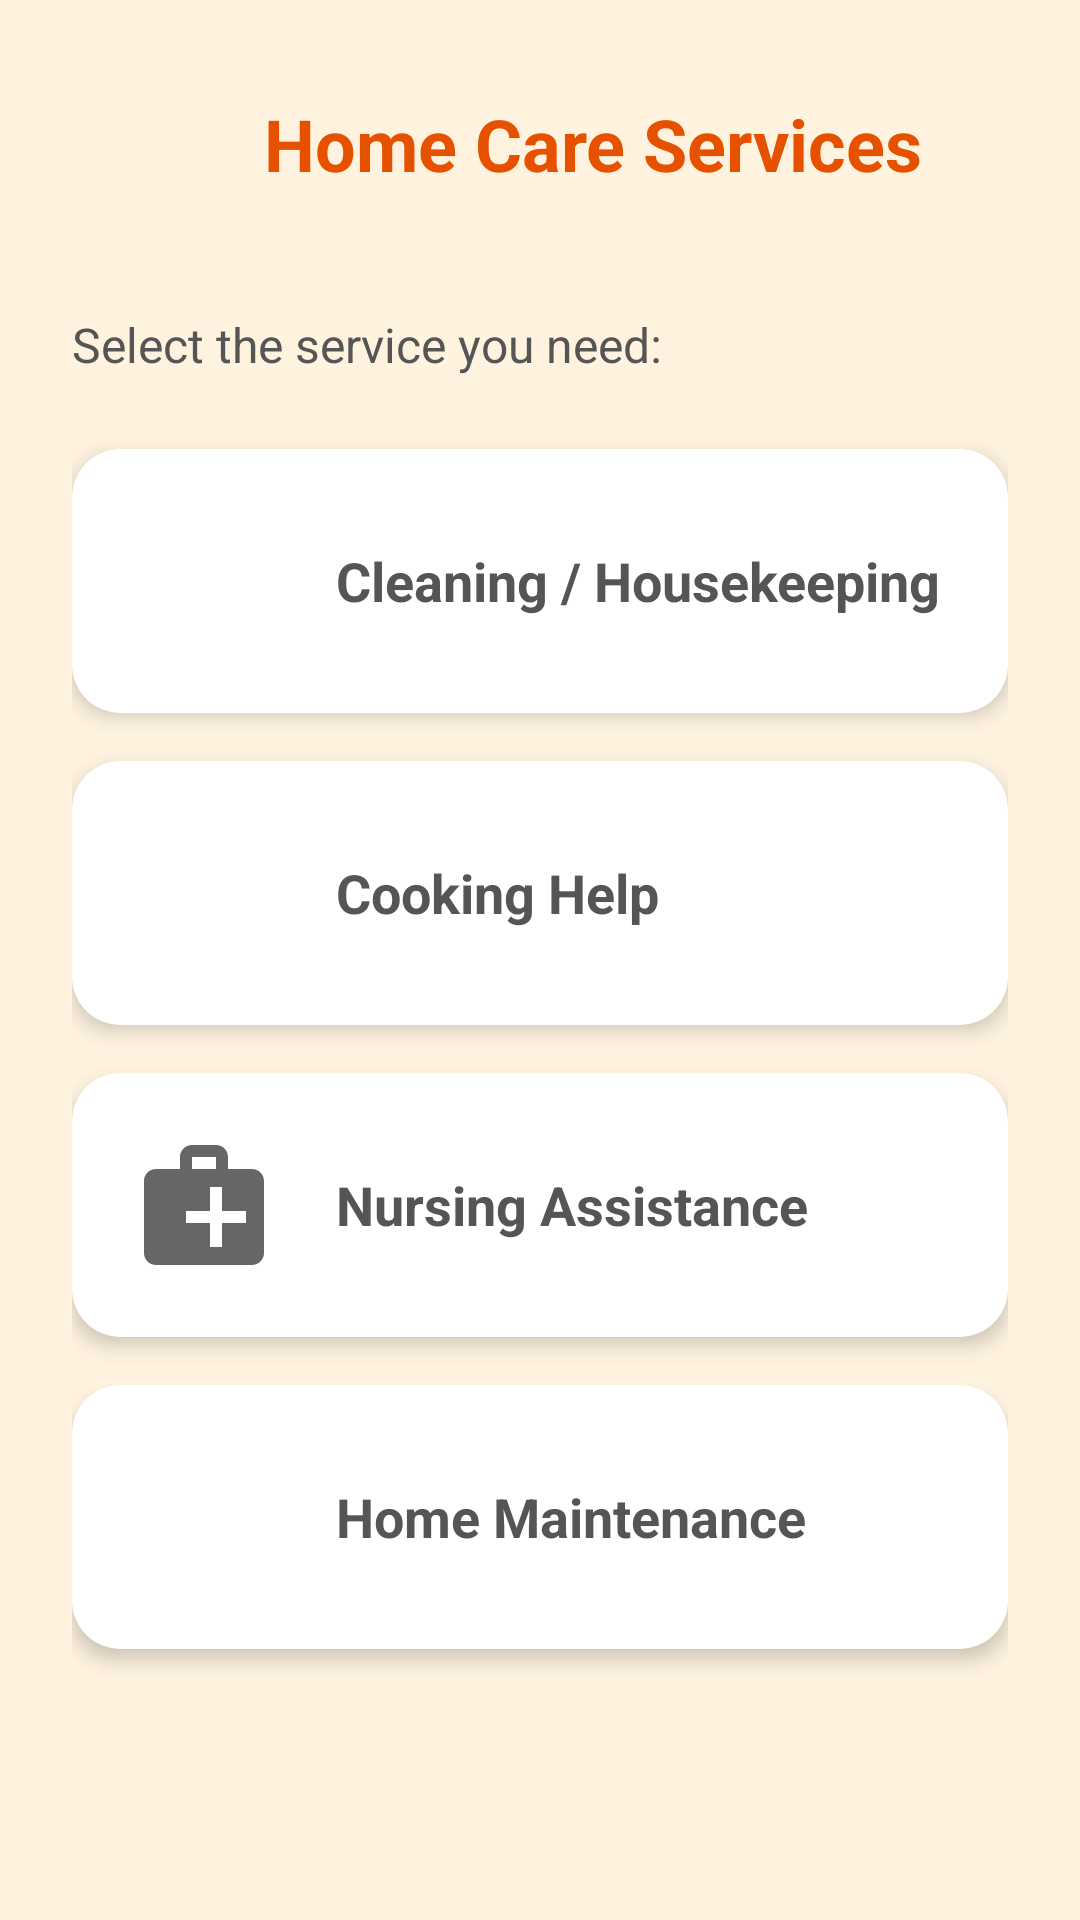

Icons on this 1080*1920 Android screen, each with the point to tap as point (x, y):
medical: point (204, 1205)
